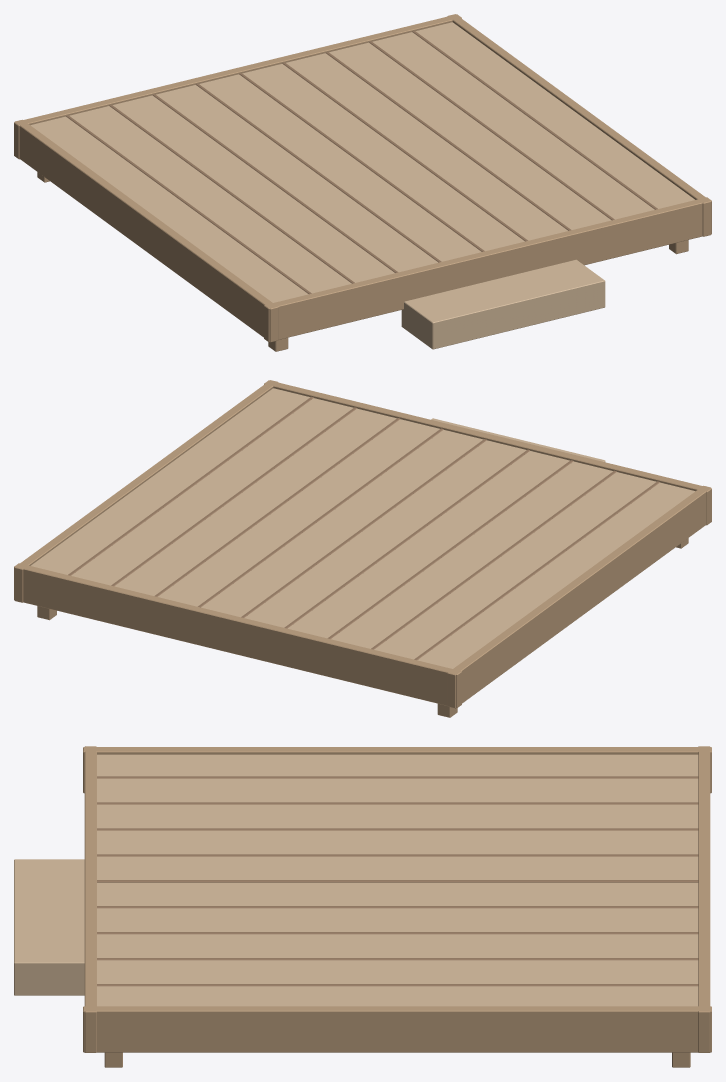
File: SM_Terrace_Deck.fbx
The picture shows the model from 3 angles, top to bottom: view 1: azimuth 30°, elevation 25°; view 2: azimuth 150°, elevation 25°; view 3: azimuth 270°, elevation 25°; orthographic projection. The views are drawn at different scales.
Visible parts, largest first — view 1: Terrace_Deck; view 2: Terrace_Deck; view 3: Terrace_Deck.
Boxes of the visible parts, <box> form: Terrace_Deck: <box>14,14,711,351</box>; Terrace_Deck: <box>14,380,711,717</box>; Terrace_Deck: <box>14,746,711,1067</box>.
Bounding box in the file's own units: 410 × 47 × 455.
